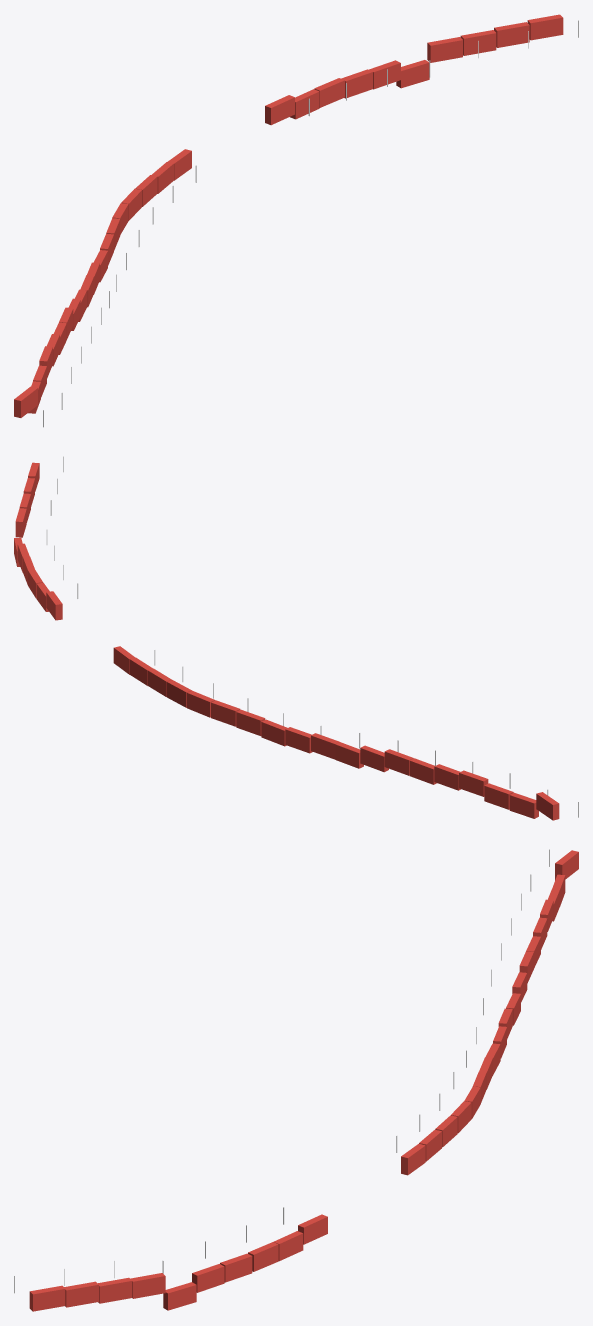
The model's file is balisage_collision.glb.
The picture shows the model from 3 angles, top to bottom: view 1: azimuth 90°, elevation 25°; view 2: azimuth 150°, elevation 25°; view 3: azimuth 270°, elevation 25°; orthographic projection. The views are drawn at different scales.
Parts seen in each view (by area): view 1: barrieres_lion_d_or; view 2: barrieres_lion_d_or; view 3: barrieres_lion_d_or.
Boxes of the visible parts, <box> form: barrieres_lion_d_or: <box>14,14,563,417</box>; barrieres_lion_d_or: <box>14,462,559,820</box>; barrieres_lion_d_or: <box>29,850,578,1311</box>.
Size of the model in its own units: 55.08 by 4.16 by 31.28.
